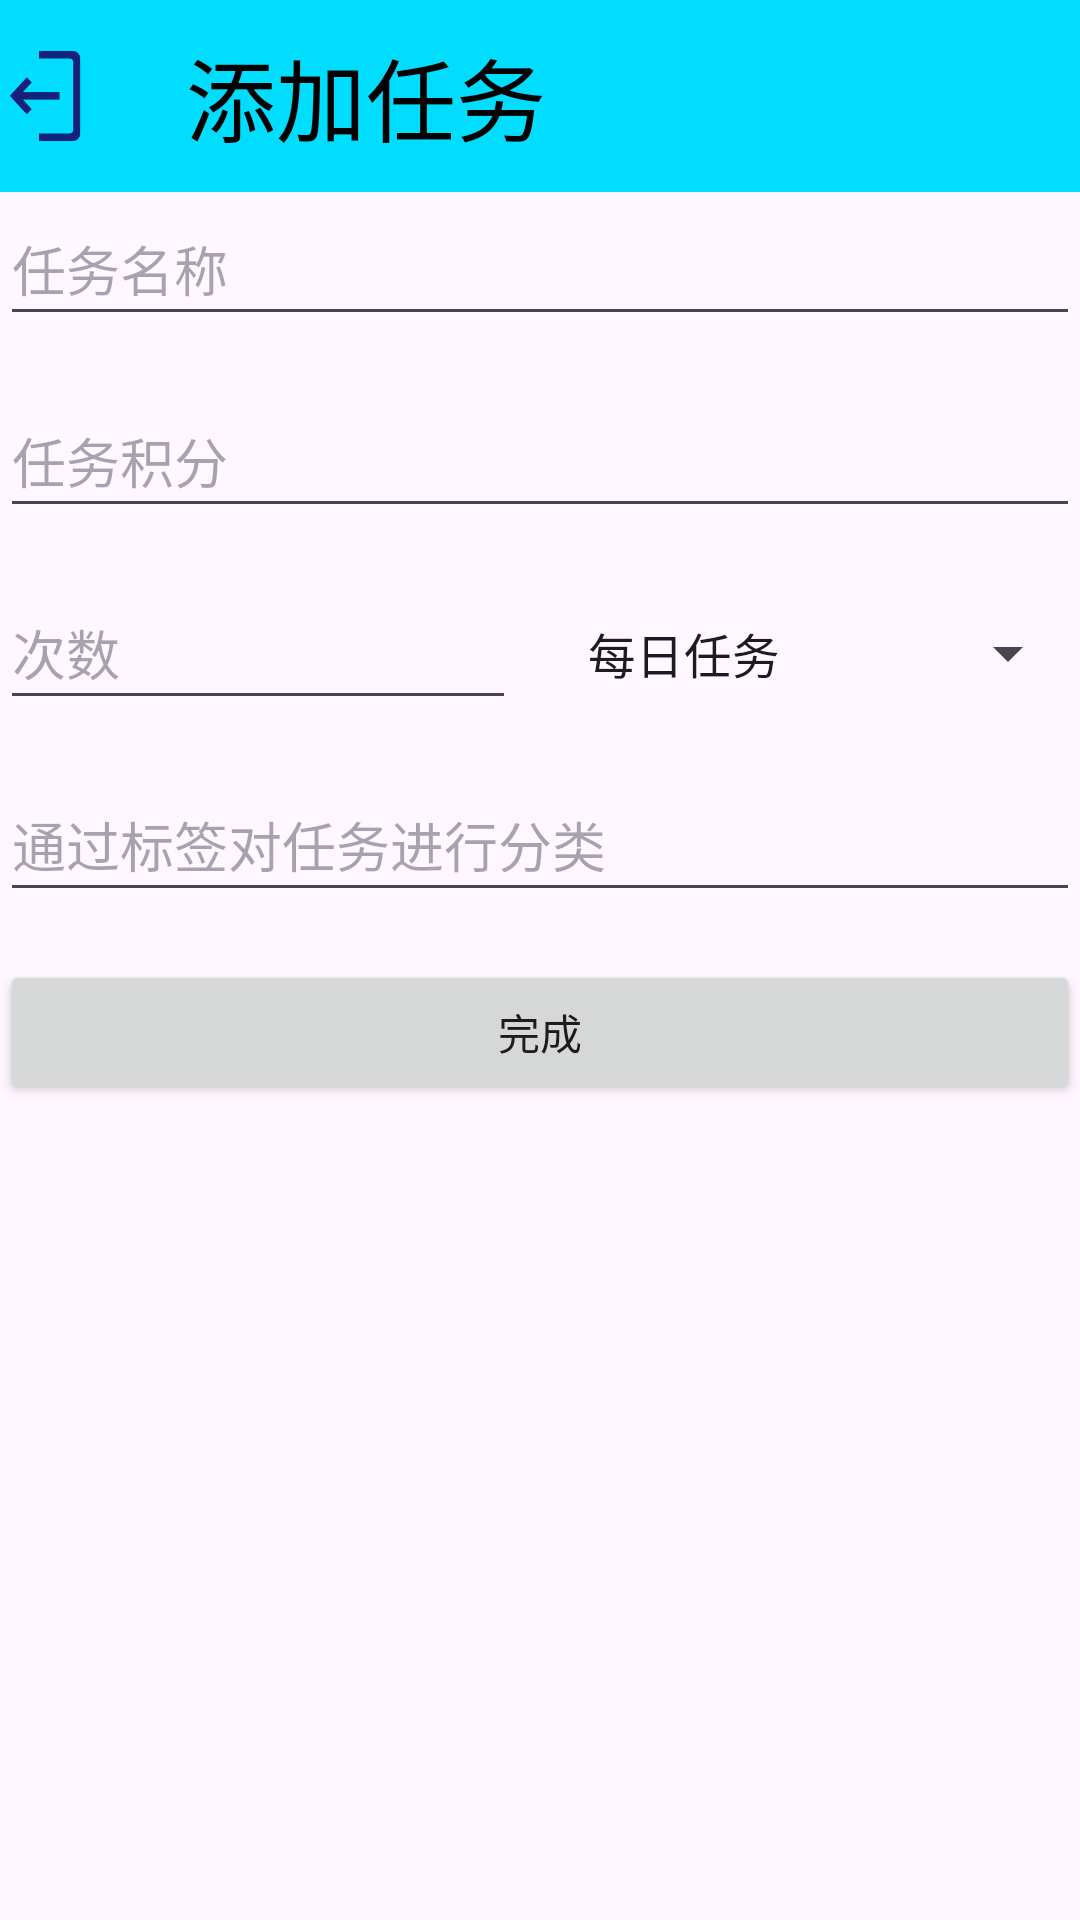

Where to tap for icons on this 1080px x 1920px app screen, as (x=x, y=y):
back: (x=45, y=96)
